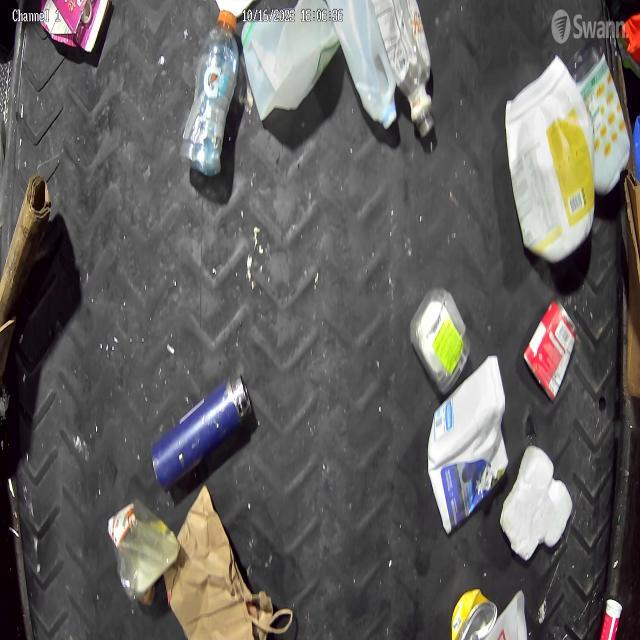can: (518, 303, 584, 394), (450, 589, 497, 640)
milk_jug: (325, 1, 397, 129)
